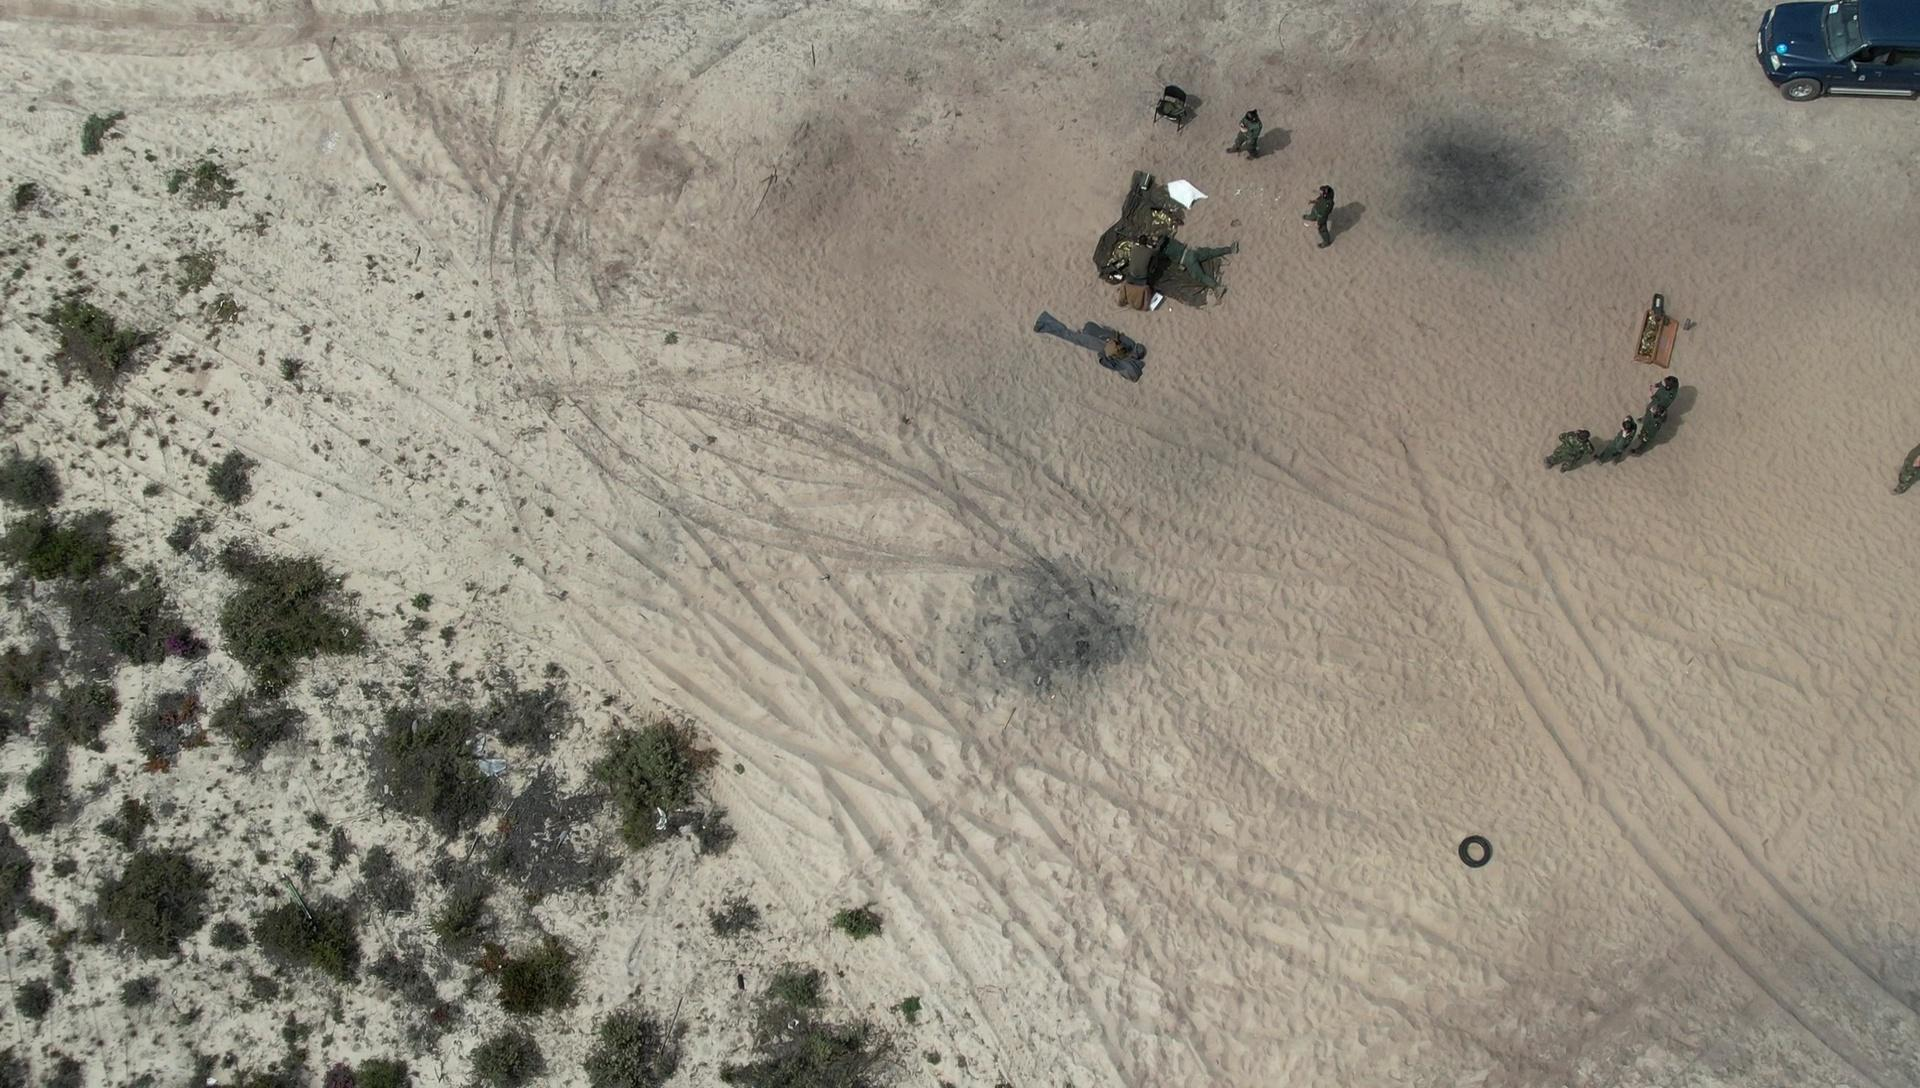Soldier: (1156, 228, 1247, 307), (1305, 185, 1361, 276), (1116, 235, 1168, 313), (1225, 96, 1284, 164), (1545, 425, 1597, 493), (1644, 367, 1708, 419), (1596, 408, 1640, 469), (1629, 388, 1667, 452)
